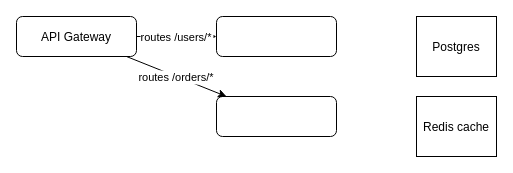
The diagram is 513 pixels wide and 173 high, and some of its shapes have lost their labels. Each missing label, with the box of its shape:
OrderService: (216, 96, 336, 136)
UserService: (216, 16, 336, 56)
